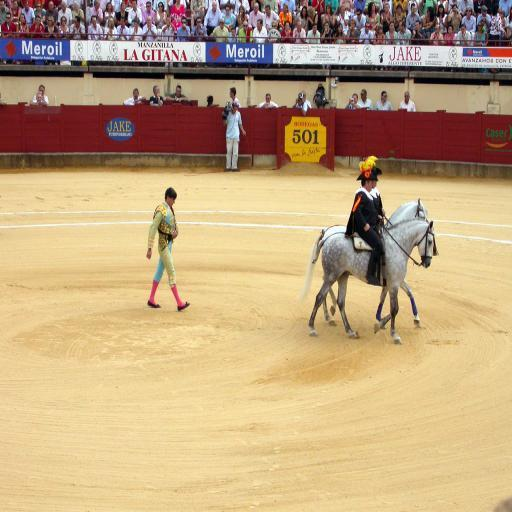horse: (302, 199, 432, 332), (302, 219, 435, 348)
